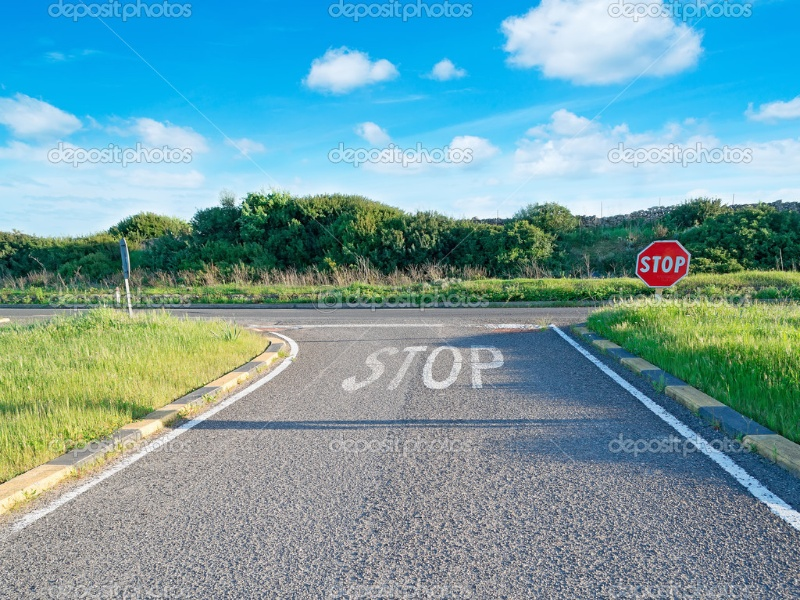stop sign: (632, 237, 692, 293)
